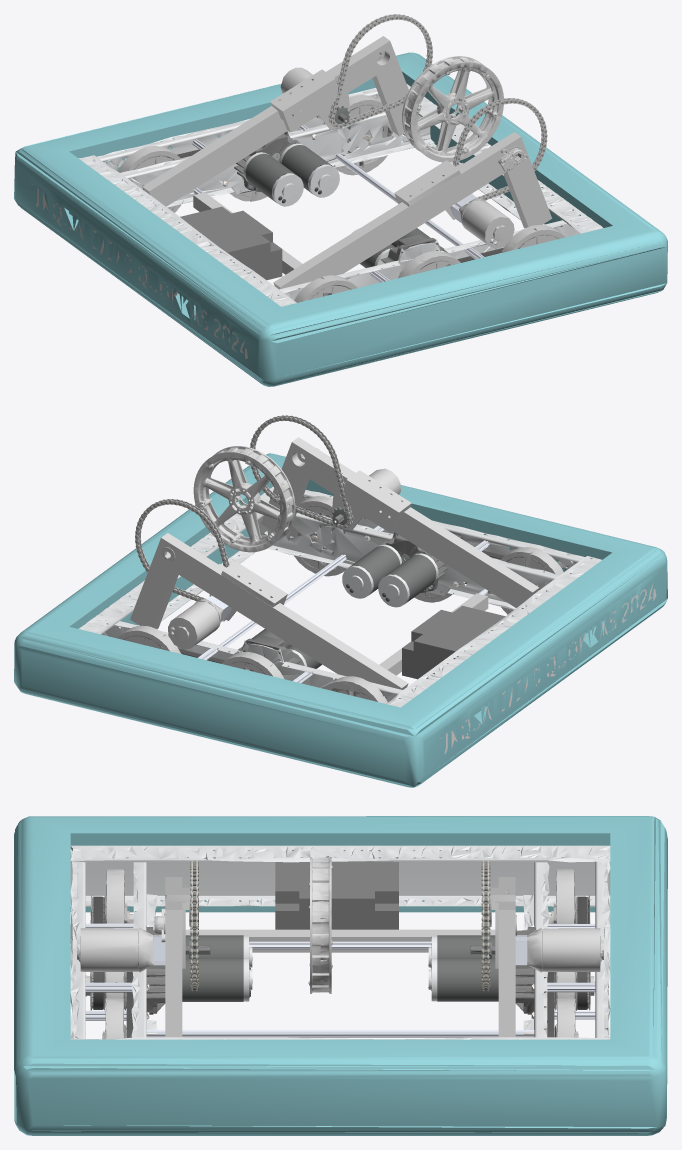
The picture shows the model from 3 angles, top to bottom: view 1: azimuth 30°, elevation 25°; view 2: azimuth 150°, elevation 25°; view 3: azimuth 270°, elevation 25°; orthographic projection. The views are drawn at different scales.
Parts seen in each view (by area): view 1: geometry_6, geometry_2, geometry_21, geometry_3, geometry_16, geometry_0, geometry_23, geometry_10, geometry_1, geometry_19, geometry_8; view 2: geometry_6, geometry_2, geometry_21, geometry_3, geometry_16, geometry_0, geometry_23, geometry_10, geometry_1, geometry_19, geometry_8; view 3: geometry_6, geometry_21, geometry_2, geometry_3, geometry_10, geometry_23, geometry_16, geometry_15, geometry_1, geometry_19, geometry_0.
Boxes of the visible parts, x1,y1,x2,y2 form: geometry_6: [14, 52, 667, 386]; geometry_2: [142, 36, 552, 300]; geometry_21: [79, 84, 603, 306]; geometry_3: [178, 113, 444, 280]; geometry_16: [118, 95, 565, 302]; geometry_0: [328, 14, 547, 200]; geometry_23: [245, 145, 430, 267]; geometry_10: [192, 115, 484, 282]; geometry_1: [330, 15, 546, 199]; geometry_19: [133, 104, 559, 299]; geometry_8: [43, 193, 208, 330]; geometry_6: [14, 453, 667, 787]; geometry_2: [130, 437, 539, 700]; geometry_21: [79, 486, 601, 707]; geometry_3: [238, 514, 505, 679]; geometry_16: [117, 496, 563, 703]; geometry_0: [135, 415, 353, 601]; geometry_23: [251, 546, 436, 668]; geometry_10: [198, 516, 489, 683]; geometry_1: [135, 416, 351, 600]; geometry_19: [123, 505, 550, 699]; geometry_8: [451, 611, 616, 747]; geometry_6: [14, 816, 667, 1135]; geometry_21: [70, 845, 610, 1039]; geometry_2: [77, 857, 603, 1037]; geometry_3: [146, 850, 534, 1014]; geometry_10: [85, 923, 595, 1037]; geometry_23: [182, 935, 498, 1001]; geometry_16: [86, 868, 594, 1039]; geometry_15: [93, 896, 587, 1037]; geometry_1: [190, 861, 490, 989]; geometry_19: [90, 884, 590, 1039]; geometry_0: [191, 860, 489, 991].
Bounding box in the file's own units: 0.8767 × 0.3756 × 0.9537.
